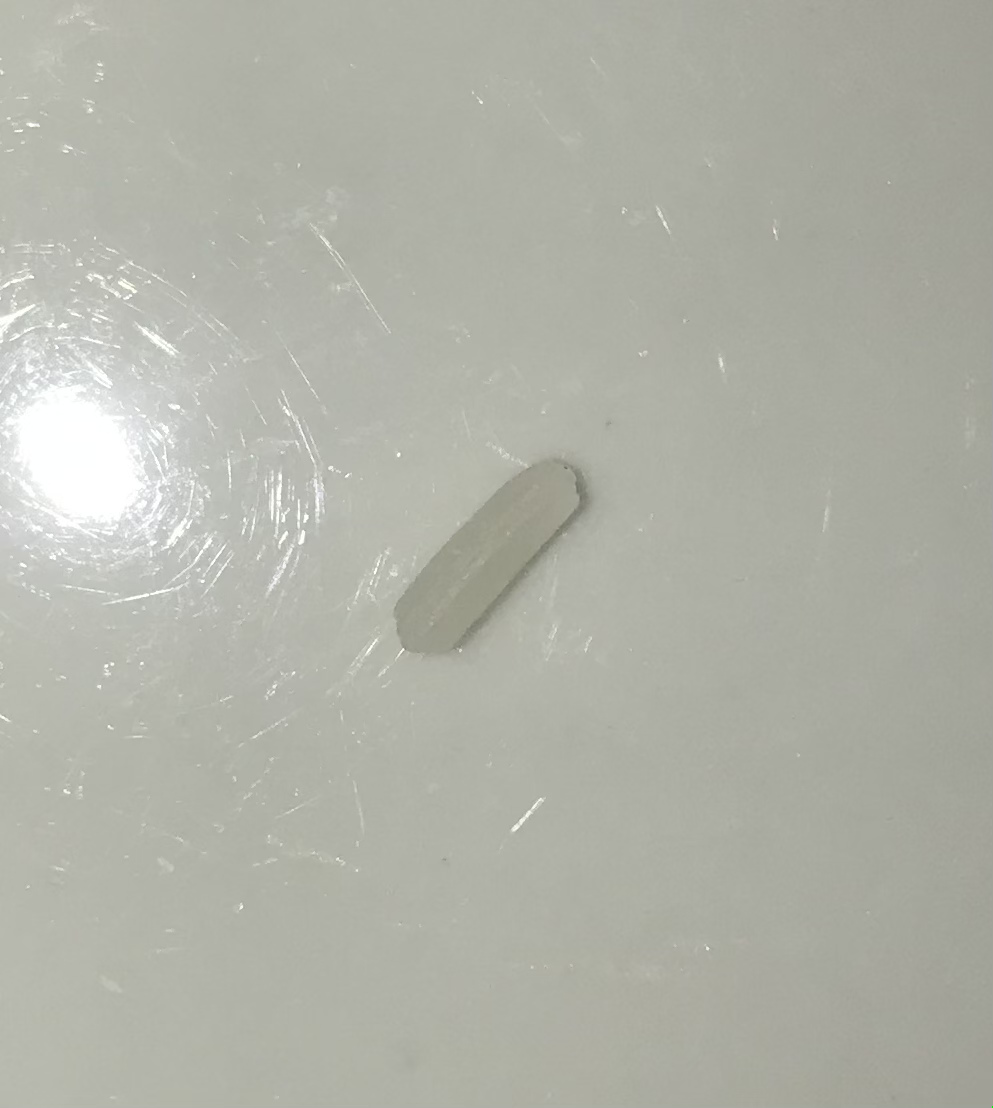Gao Thom Go Cong: (385, 458, 592, 666)
